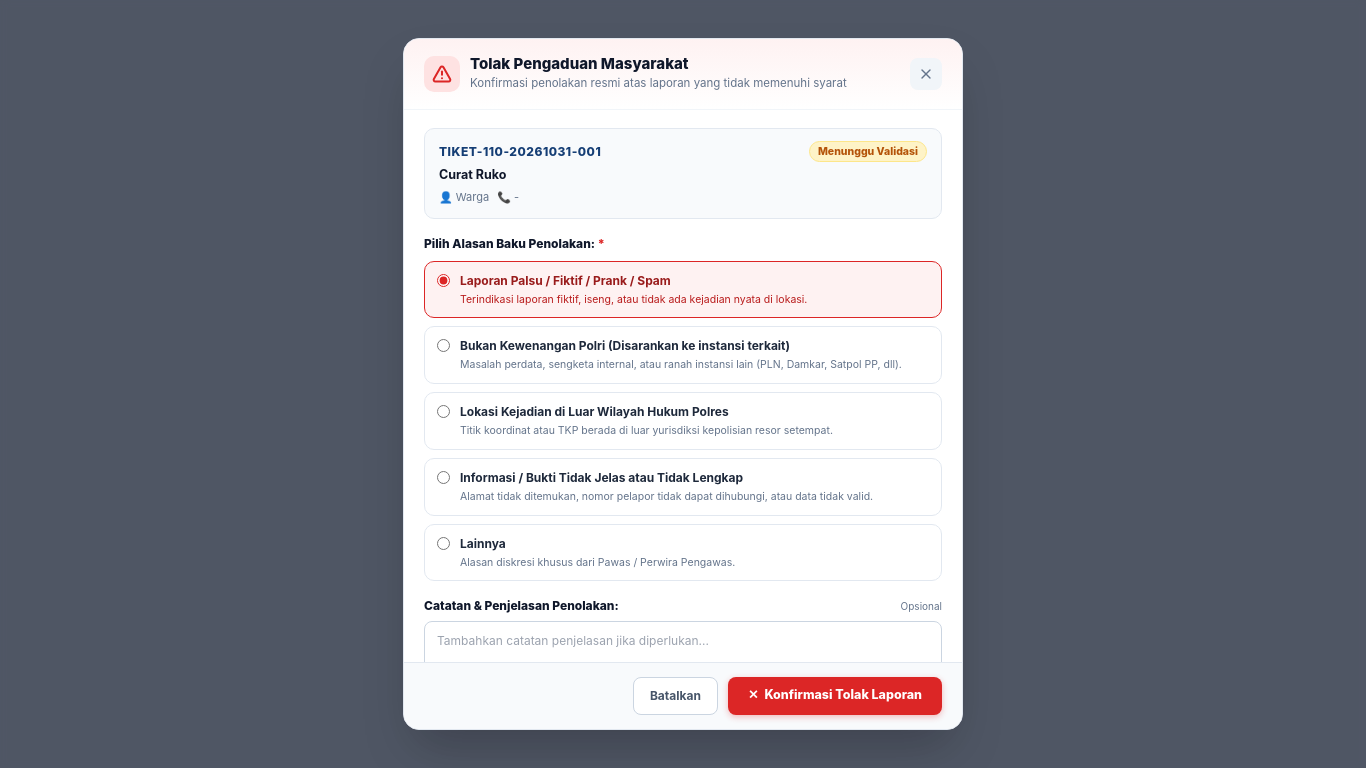
it: ModalTolakPengaduan (React Testing Library Unit Test) › disables submit button if "Lainnya" is selected and notes are empty
Step 1. Click the text "Lainnya" → point(483, 543), box [460,536,506,551]
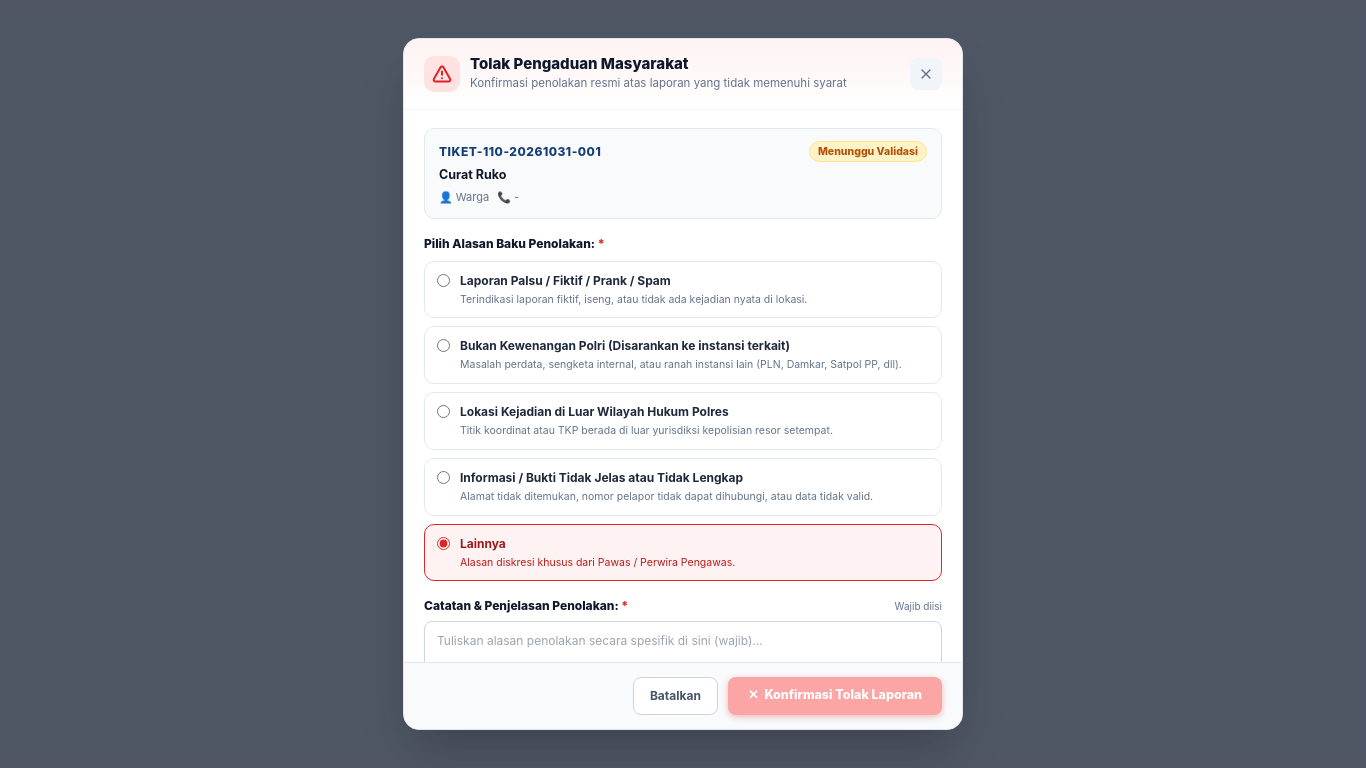
Expected: the button "✕ Konfirmasi Tolak Laporan" is disabled, [728,677,942,715]
